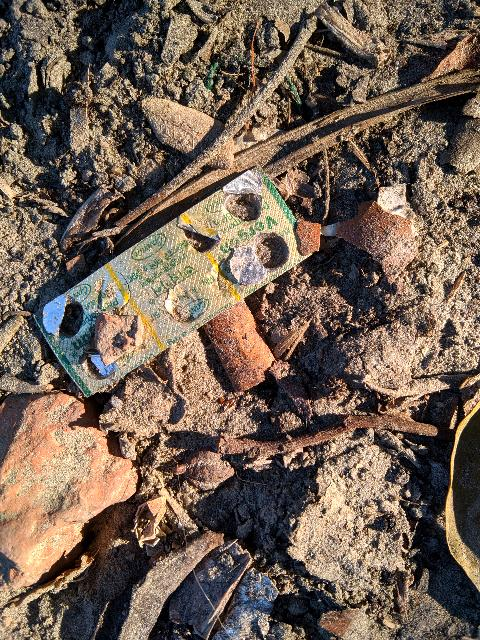medicine: (19, 138, 335, 405)
